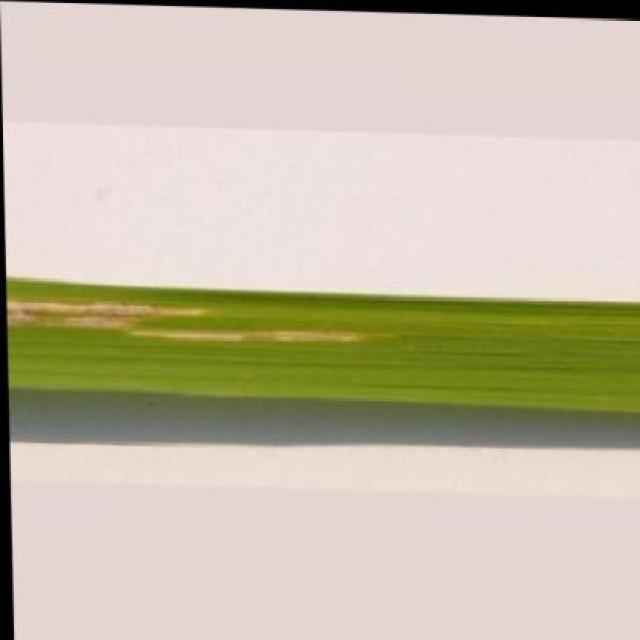Brown_Spot: (4, 269, 640, 416)
